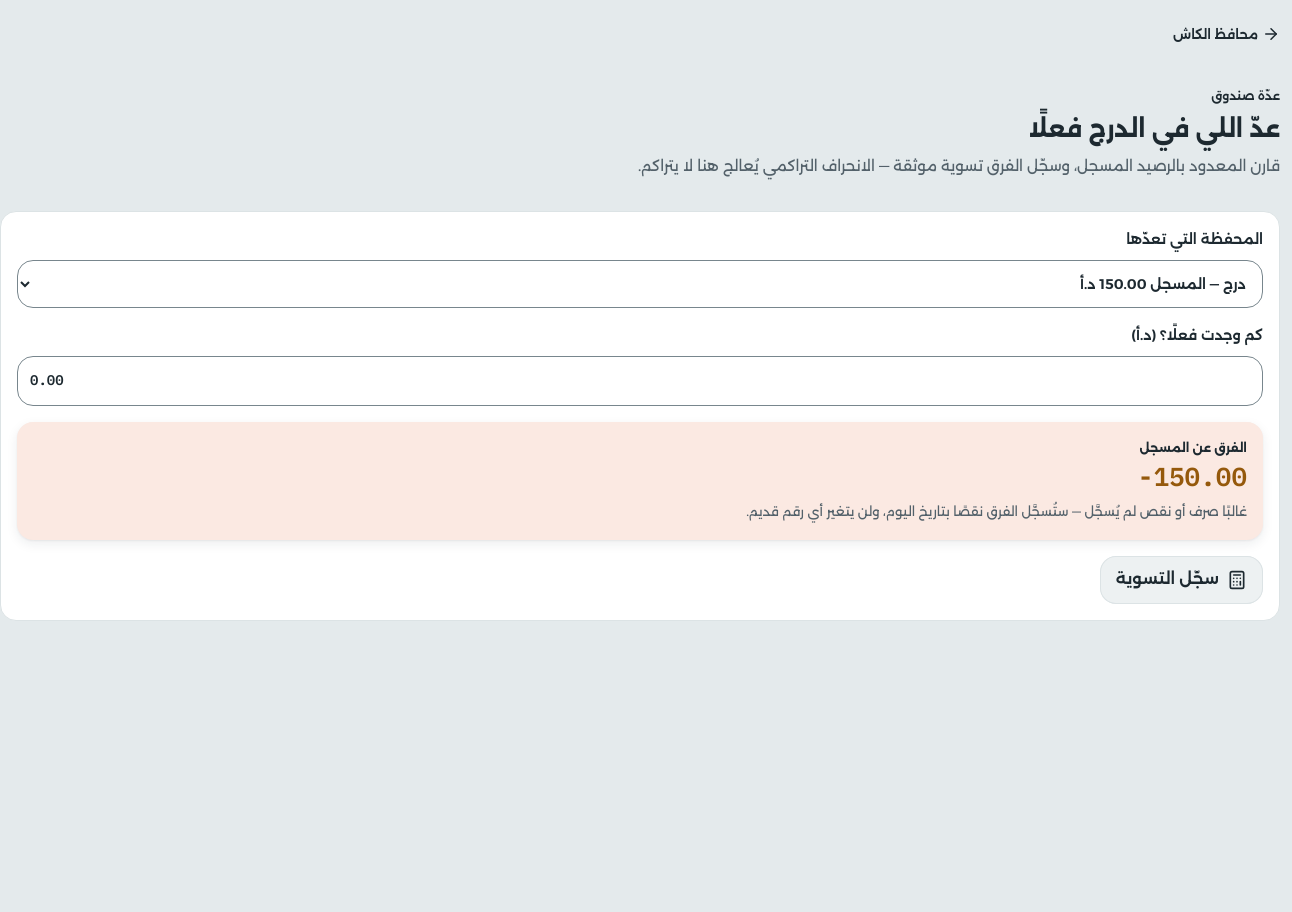
Test: CashCount journeys (Group 11-E) › fails closed on an invalid count with a user-safe message and no write
expect the heading "عدّ اللي في الدرج فعلًا" is shown: met, box left=1028, top=114, right=1280, bottom=143
Replace the text in the field named "المبلغ المعدود" with "150.005": coordinates (640, 381) left=17, top=356, right=1263, bottom=406
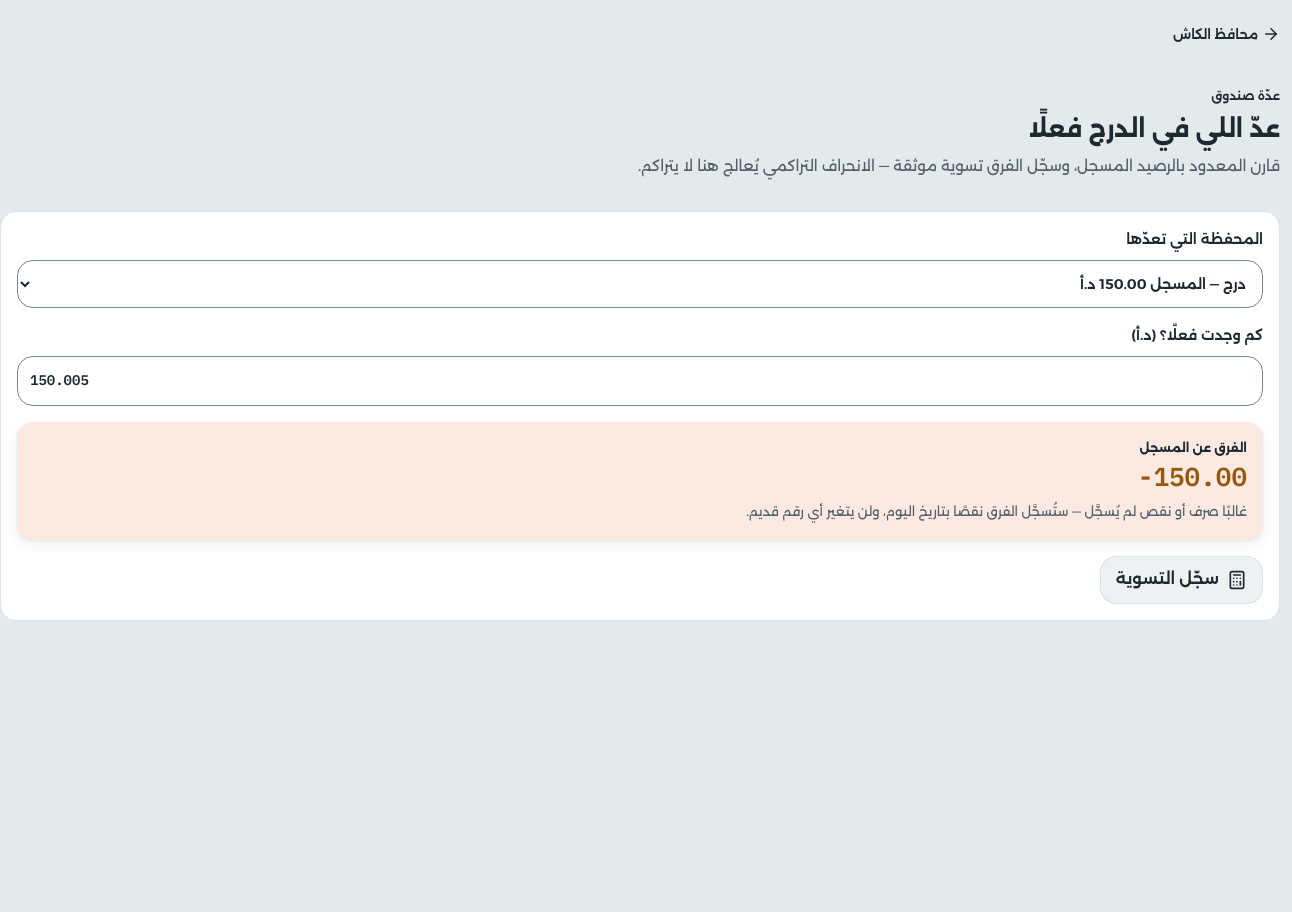
Click the button "سجّل التسوية": coordinates (1181, 580) left=1100, top=556, right=1263, bottom=604
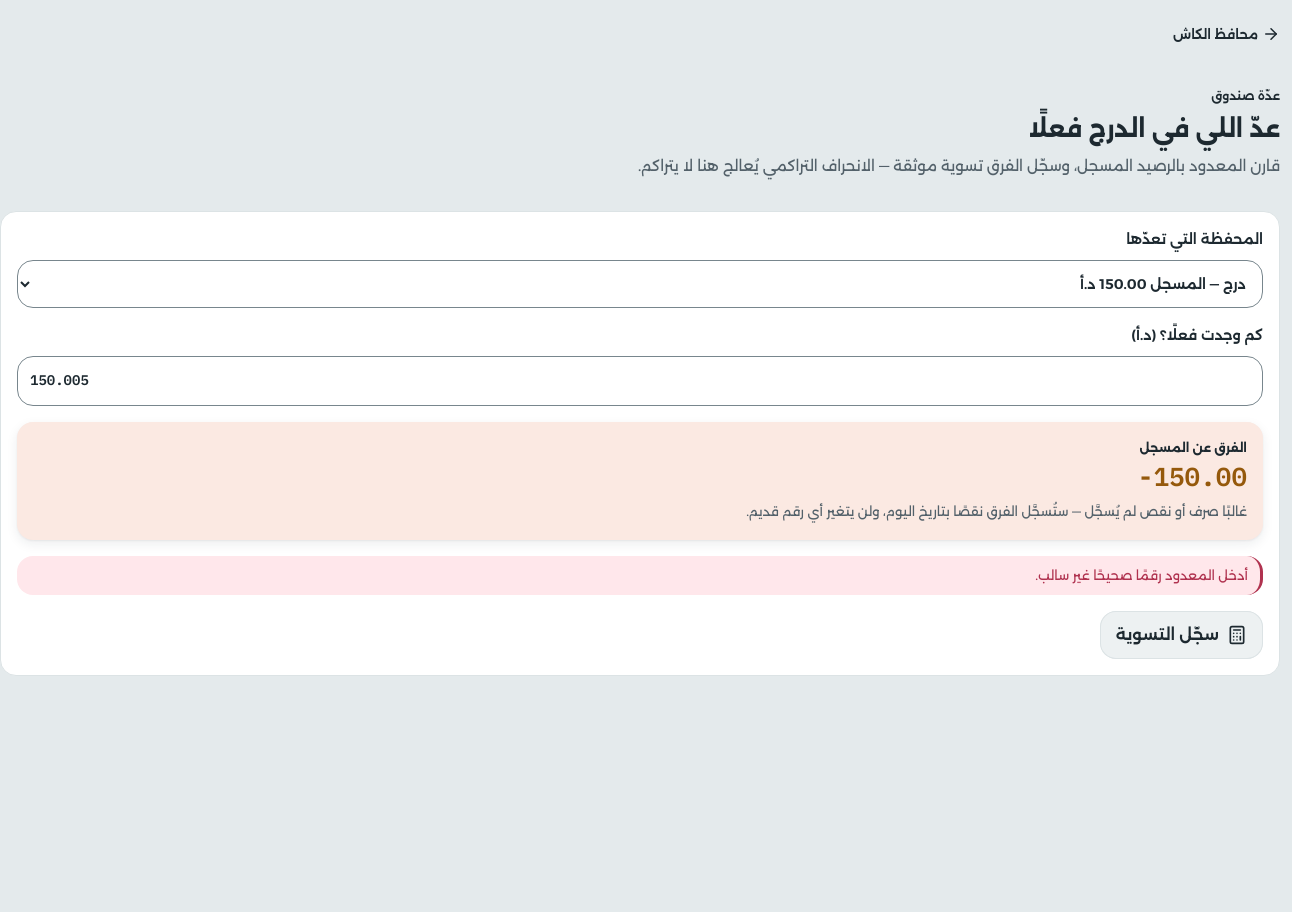
expect the text "أدخل المعدود رقمًا صحيحًا غير سالب." is shown: met, box left=17, top=556, right=1263, bottom=595
